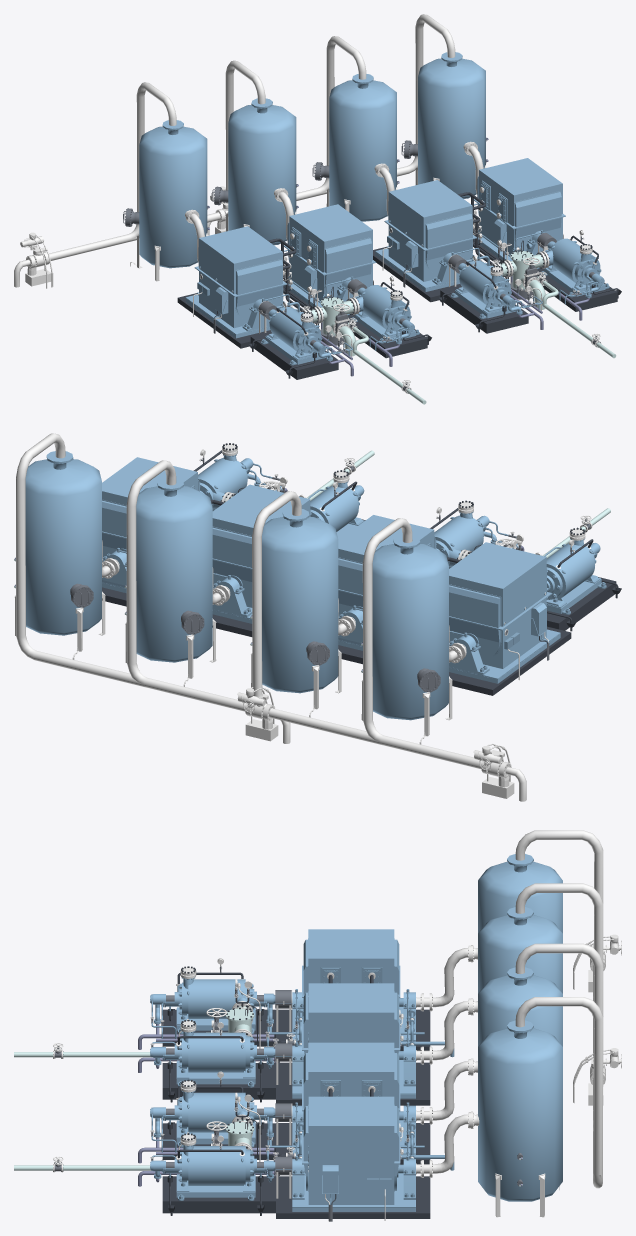
File: WSB.glb
3 renders of one model, top to bottom at view 1: azimuth 30°, elevation 25°; view 2: azimuth 150°, elevation 25°; view 3: azimuth 270°, elevation 25°, orthographic. The views are drawn at different scales.
Parts seen in each view (by area): view 1: WSB-1-004, WSB-1-001, WSB-1-005, WSB-1-003, WSB-1-002; view 2: WSB-1-004, WSB-1-001, WSB-1-003, WSB-1-005, WSB-1-002; view 3: WSB-1-001, WSB-1-004, WSB-1-005, WSB-1-003, WSB-1-002.
Boxes of the visible parts, bbox=[...] form: WSB-1-004: bbox=[139, 52, 485, 268]; WSB-1-001: bbox=[194, 158, 604, 359]; WSB-1-005: bbox=[20, 60, 621, 393]; WSB-1-003: bbox=[14, 14, 616, 404]; WSB-1-002: bbox=[177, 237, 617, 379]; WSB-1-004: bbox=[25, 451, 448, 720]; WSB-1-001: bbox=[102, 455, 600, 674]; WSB-1-003: bbox=[16, 433, 610, 801]; WSB-1-005: bbox=[14, 443, 621, 798]; WSB-1-002: bbox=[102, 519, 616, 695]; WSB-1-001: bbox=[150, 929, 415, 1204]; WSB-1-004: bbox=[478, 854, 562, 1201]; WSB-1-005: bbox=[53, 864, 621, 1221]; WSB-1-003: bbox=[14, 830, 603, 1188]; WSB-1-002: bbox=[162, 1007, 430, 1218].
Size of the model in its own units: 96.02 by 36.81 by 93.31.
